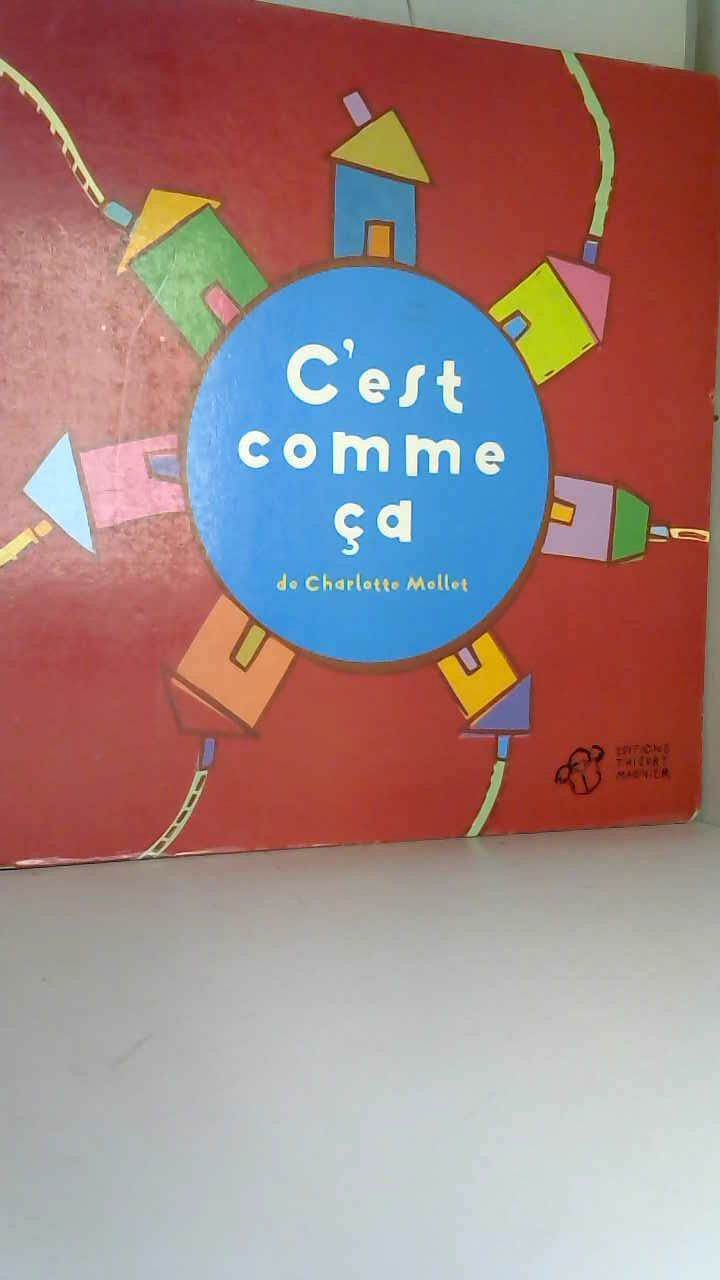book: (0, 0, 720, 887)
